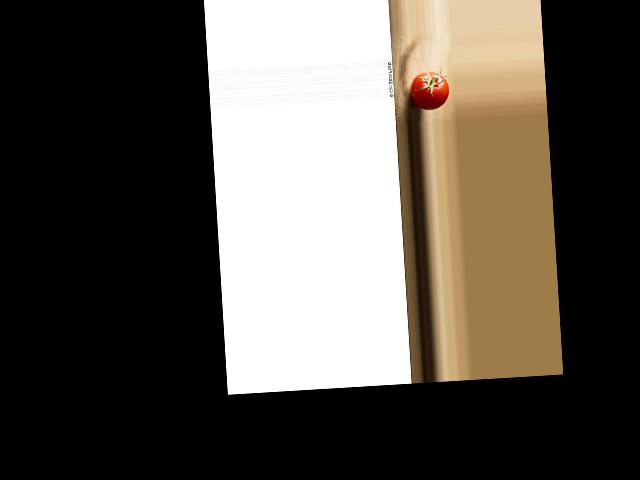tomato: (409, 70, 449, 110)
